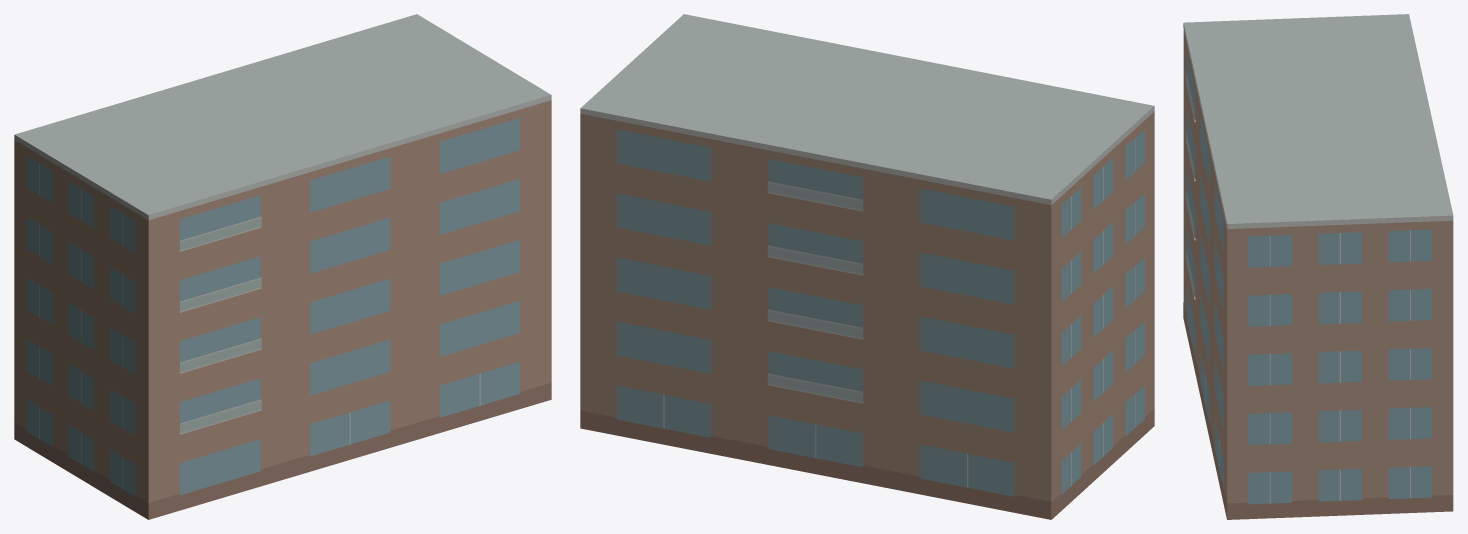
File: survey-upis-32881102.glb
The picture shows the model from 3 angles, left to right: view 1: azimuth 30°, elevation 25°; view 2: azimuth 150°, elevation 25°; view 3: azimuth 270°, elevation 25°; orthographic projection. The views are drawn at different scales.
Parts seen in each view (by area): view 1: survey-upis-32881102.tmp; view 2: survey-upis-32881102.tmp; view 3: survey-upis-32881102.tmp.
Boxes of the visible parts, x1,y1,x2,y2 form: survey-upis-32881102.tmp: [14, 14, 551, 519]; survey-upis-32881102.tmp: [580, 14, 1154, 519]; survey-upis-32881102.tmp: [1183, 14, 1453, 519].
Bounding box in the file's own units: 21.79 × 14.3 × 11.84.
